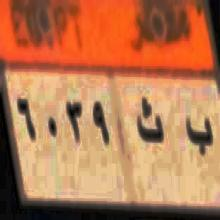0: (46, 105, 60, 147)
3: (63, 98, 87, 144)
6: (15, 91, 39, 147)
9: (94, 94, 112, 151)
baa: (183, 111, 216, 164)
thaa: (136, 99, 164, 150)
